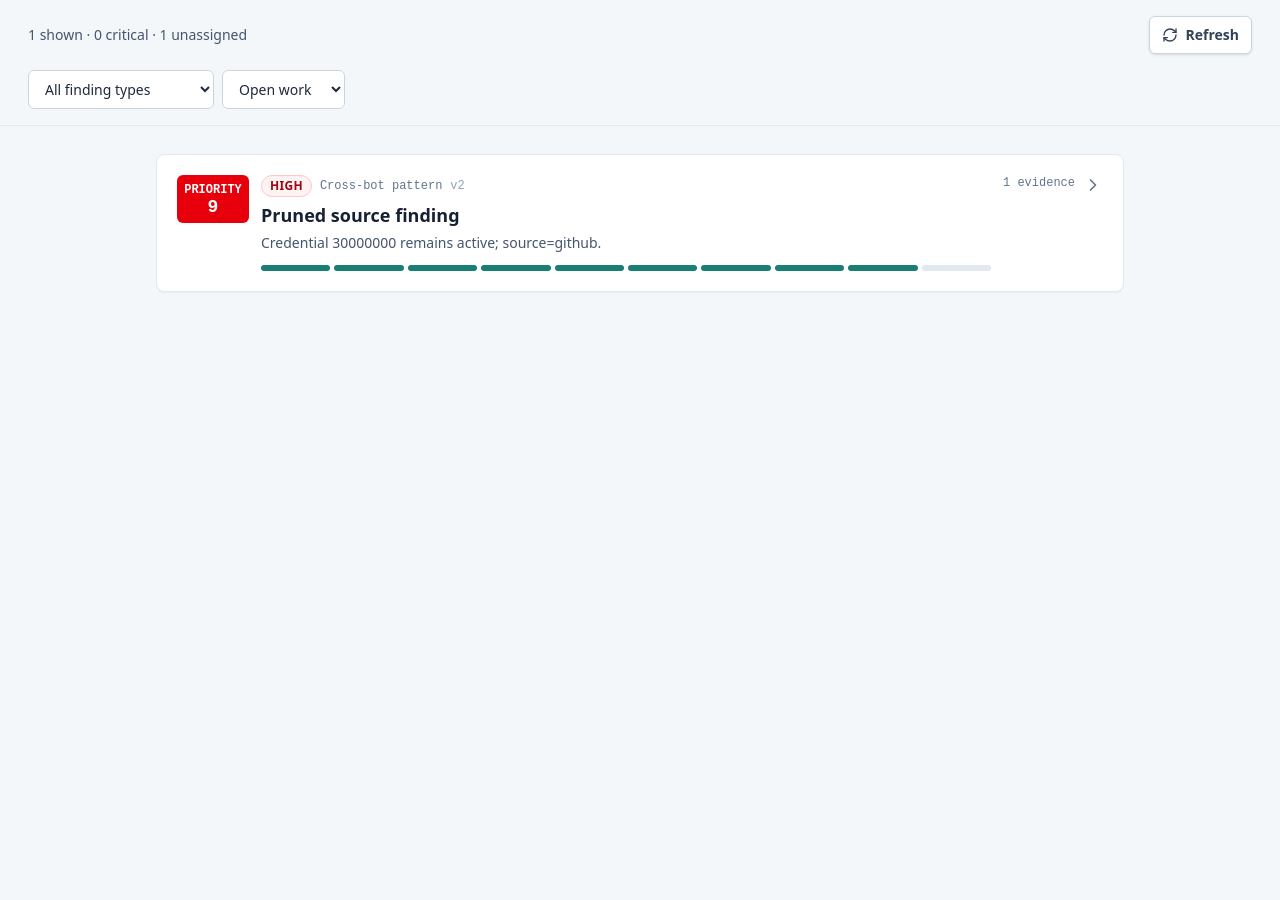
Test: FindingsQueue › labels a message source that was pruned after broadcast
The width and height of the screenshot is (1280, 900).
What coordinates should you click on to do the following:
click the button "Pruned source finding"
I would click on:
 (213, 199)
Its box is [157,155,1123,291].
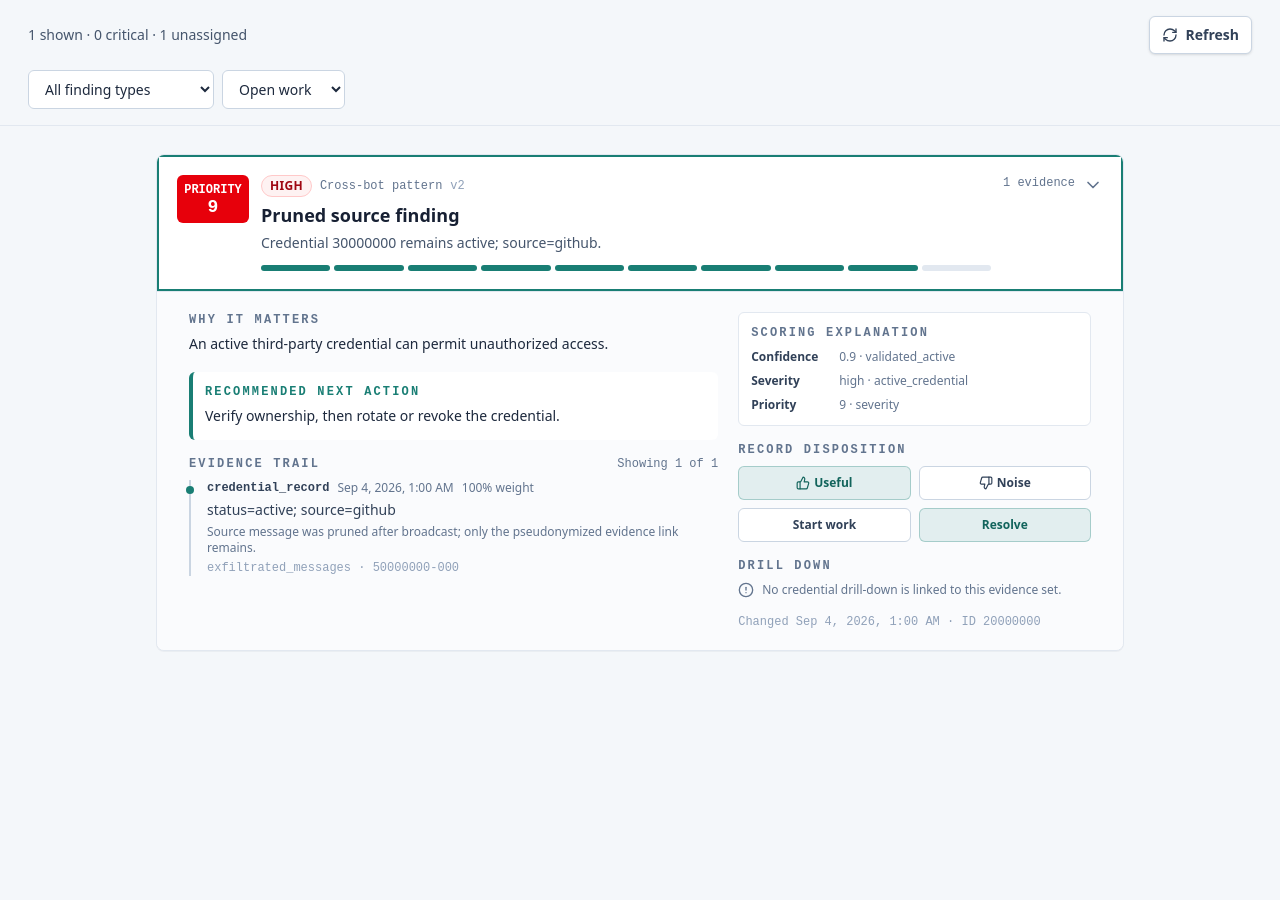
Check: the text "Source message was pruned" is shown, box [207,523,678,556]
Check: the text "status=active; source=github" is shown, box [207,500,396,519]
